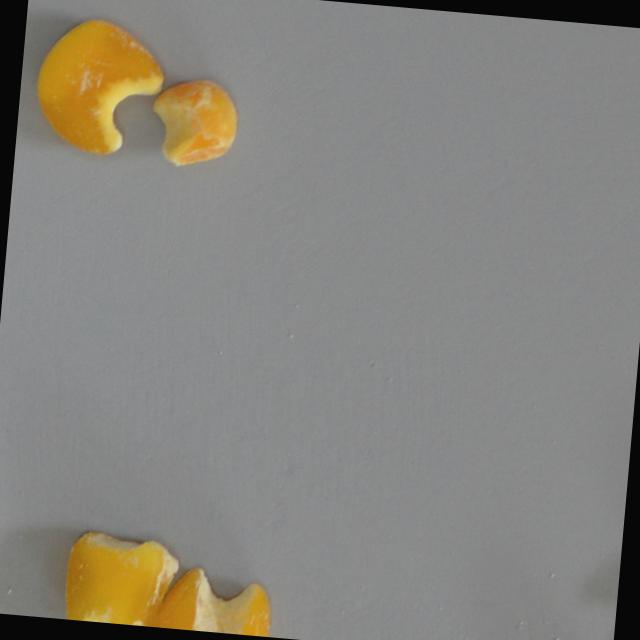dañado: (20, 7, 171, 162), (59, 524, 180, 628), (140, 67, 247, 175), (148, 559, 280, 637)
